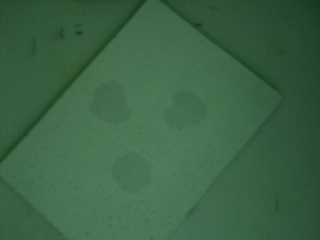Water_detected: (123, 165, 143, 191), (175, 97, 196, 120), (99, 94, 117, 114)
